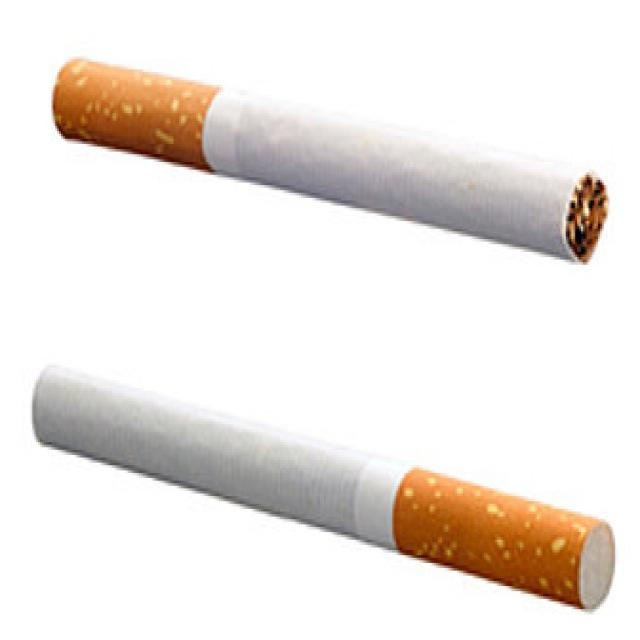smoking: (31, 361, 616, 613), (52, 56, 610, 268)
